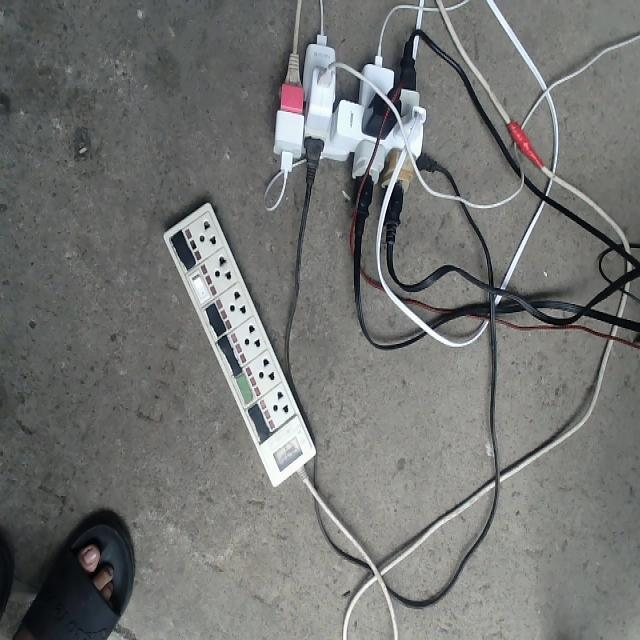-: (269, 35, 434, 204)
